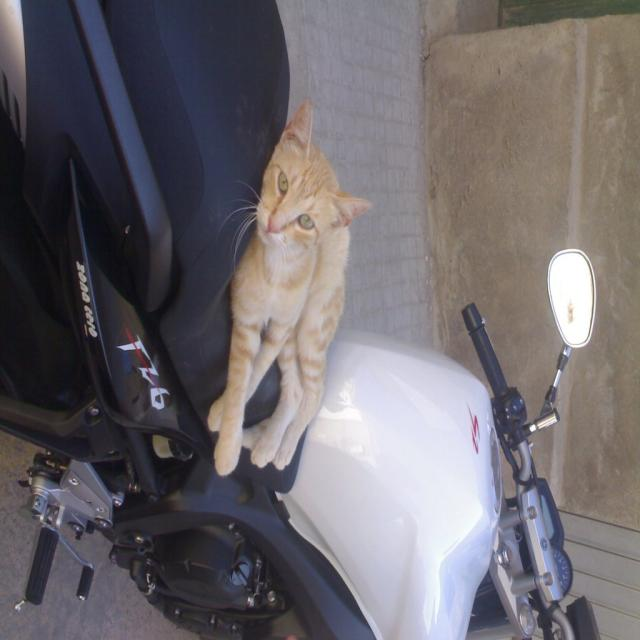Cat: (204, 95, 370, 478)
